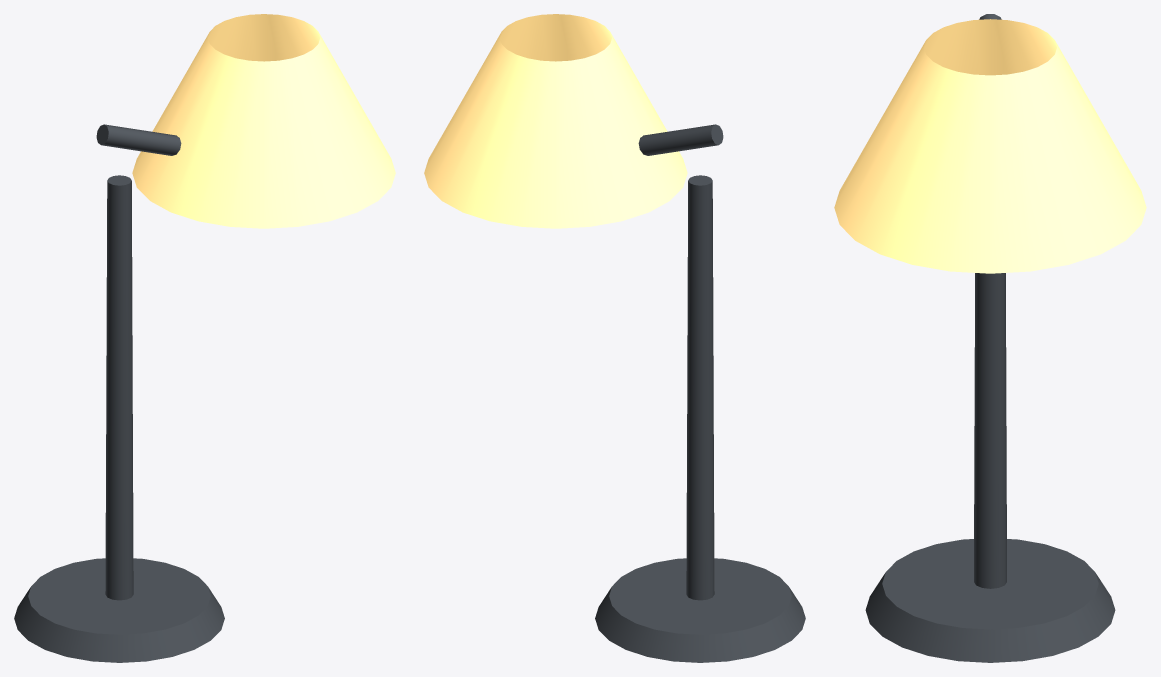
File: lamp.glb
3 renders of one model, left to right at view 1: azimuth 30°, elevation 25°; view 2: azimuth 150°, elevation 25°; view 3: azimuth 270°, elevation 25°, orthographic. The views are drawn at different scales.
Visible parts, largest first — view 1: prop-lamp; view 2: prop-lamp; view 3: prop-lamp.
Part boxes in pixels (bbox=[...]): prop-lamp: bbox=[14, 14, 395, 662]; prop-lamp: bbox=[424, 14, 805, 662]; prop-lamp: bbox=[834, 14, 1146, 662].
Size of the model in its own units: 0.23 by 0.3425 by 0.15.
